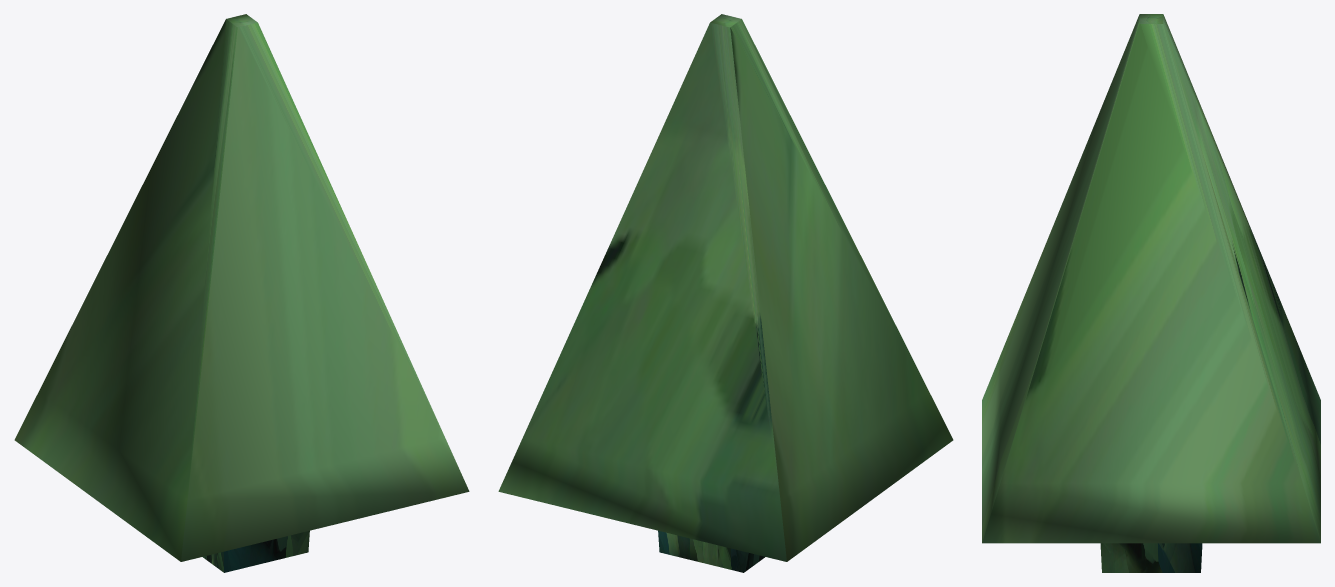
File: tree-sapin-meshy-lod0.glb
The picture shows the model from 3 angles, left to right: view 1: azimuth 30°, elevation 25°; view 2: azimuth 150°, elevation 25°; view 3: azimuth 270°, elevation 25°; orthographic projection.
Parts seen in each view (by area): view 1: Cube; view 2: Cube; view 3: Cube.
Boxes of the visible parts, box(x1,y1,x2,y2) form: Cube: box(14, 14, 469, 572); Cube: box(498, 14, 953, 572); Cube: box(982, 14, 1320, 572).
Size of the model in its own units: 6.85 by 11.89 by 6.85.
1 material, 1 textured.
